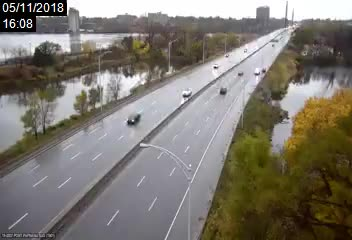personal_car: (125, 112, 143, 125), (180, 87, 193, 97), (219, 86, 228, 96), (211, 62, 220, 69), (237, 70, 243, 76), (254, 69, 260, 75), (223, 53, 229, 58)
